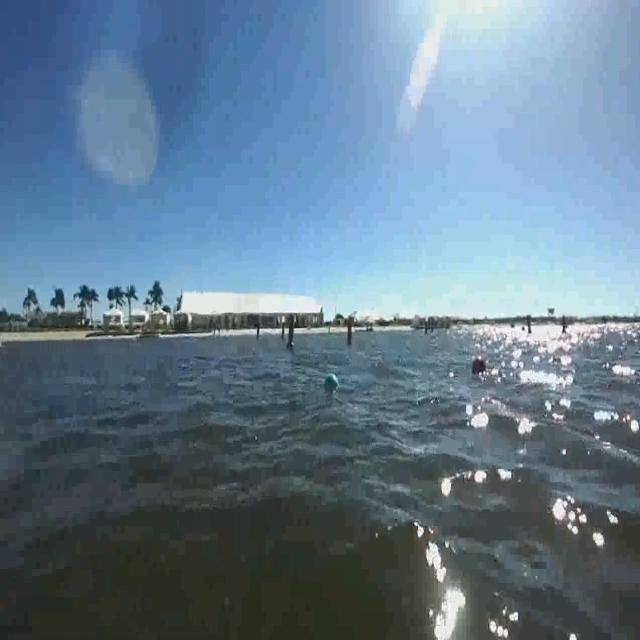black-buoy: (471, 354, 486, 374)
green-buoy: (324, 376, 336, 392)
green-column-buoy: (286, 318, 296, 348)
